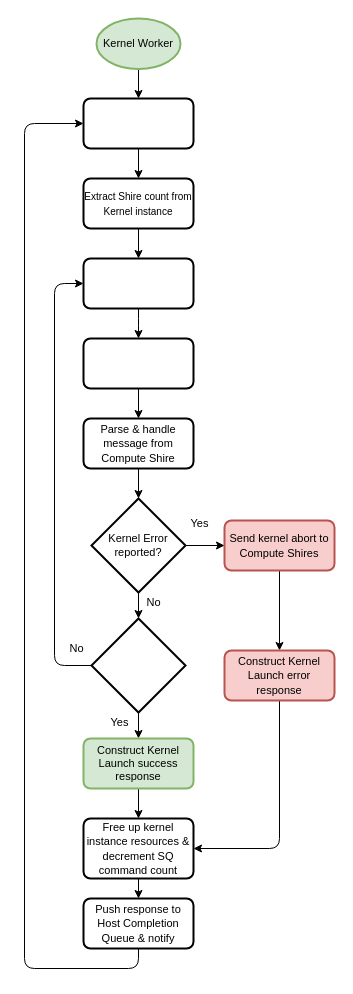
This 353x994 diagram has some shape labels left out. Each missing label, with the centre of its shape:
Read message from CM<->MM Unicast Buffer: (x=138, y=363)
Shire count > msgs received: (x=138, y=665)
Wait for FCC notification from SQW: (x=138, y=123)
Wait for IPI from Compute Shires: (x=138, y=283)
